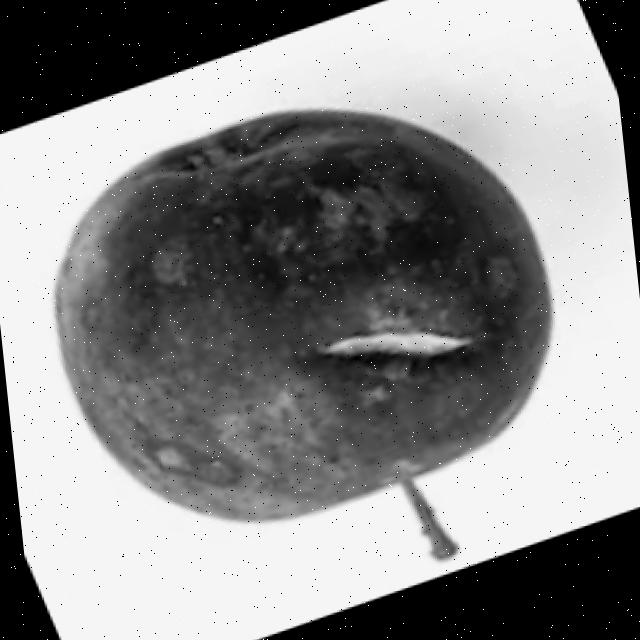Rotten: (32, 81, 578, 546)
